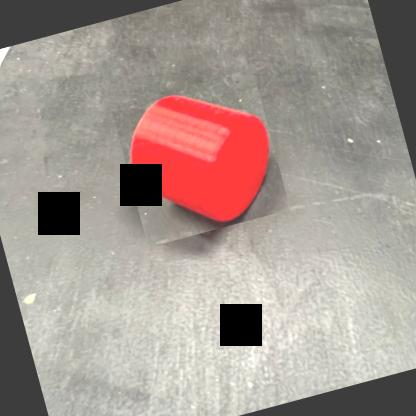red cylinder: (110, 67, 290, 248)
